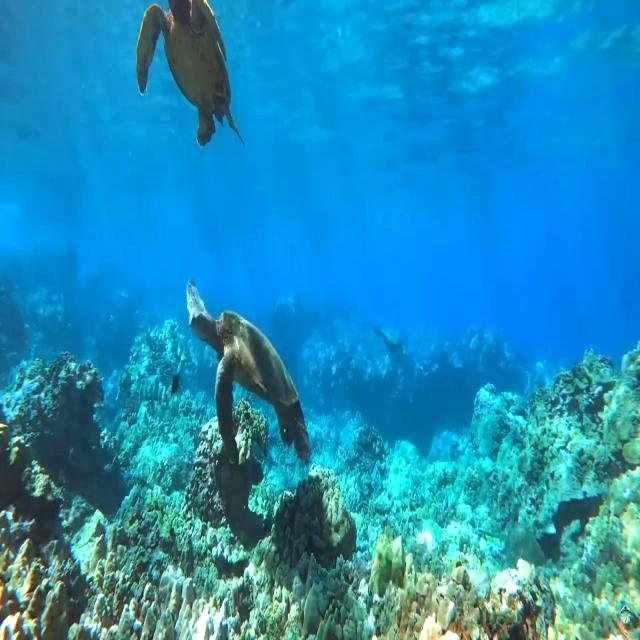Sea turtle: (186, 276, 310, 471), (136, 0, 247, 149)
